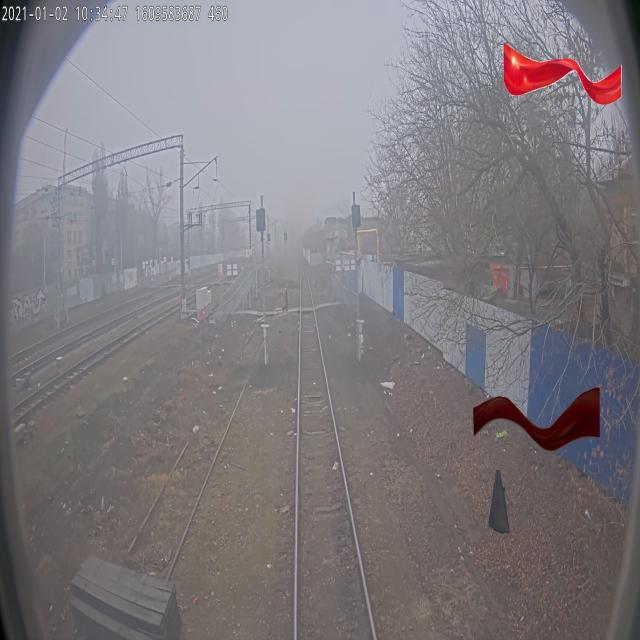floating object: (473, 387, 600, 451), (501, 42, 623, 106), (488, 469, 510, 534)
